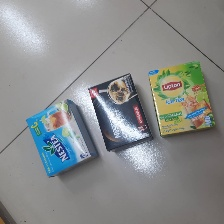CF Viet: (87, 73, 153, 154)
LipTon: (148, 60, 215, 139)
Nestea: (24, 99, 97, 179)
